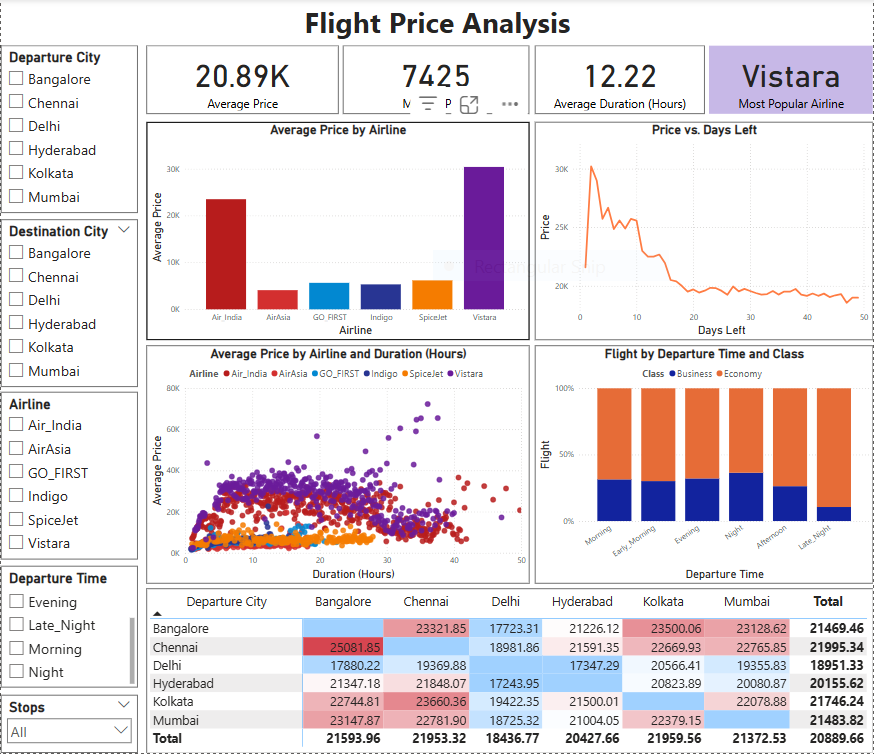

Layout of this report page (visuals, bound fields, positions):
{"tool":"powerbi","page":{"name":"Page 1","canvas":[1480,1280],"ordinal":0},"visuals":[{"type":"card","fields":{"Values":["Avg(Clean_Dataset.price)"]},"box":[246,80,326,116],"z":0},{"type":"card","fields":{"Values":["Median(Clean_Dataset.price)"]},"box":[580,80,316,116],"z":1000},{"type":"card","fields":{"Values":["Avg(Clean_Dataset.duration)"]},"box":[906,80,288,116],"z":2000},{"type":"card","fields":{"Values":["Clean_Dataset.MostPopularAirline"]},"box":[1202,80,278,116],"z":3000},{"type":"slicer","fields":{"Values":["Clean_Dataset.airline"]},"box":[0,668,232,284],"z":4000},{"type":"slicer","fields":{"Values":["Clean_Dataset.destination_city"]},"box":[0,374,232,284],"z":5000},{"type":"slicer","fields":{"Values":["Clean_Dataset.source_city"]},"box":[0,80,232,284],"z":6000},{"type":"slicer","fields":{"Values":["Clean_Dataset.stops"]},"box":[0,1182,232,98],"z":7000},{"type":"slicer","fields":{"Values":["Clean_Dataset.departure_time"]},"box":[0,962,232,206],"z":8000},{"type":"clusteredColumnChart","fields":{"Category":["Clean_Dataset.airline"],"Y":["Avg(Clean_Dataset.price)"]},"box":[246,208,650,370],"z":9000},{"type":"lineChart","title":"Price vs. Days Left","fields":{"Y":["Avg(Clean_Dataset.price)"],"Category":["Clean_Dataset.days_left"]},"box":[906,208,574,370],"z":10000},{"type":"scatterChart","fields":{"Y":["Avg(Clean_Dataset.price)"],"X":["Clean_Dataset.duration"],"Series":["Clean_Dataset.airline"]},"box":[246,588,650,404],"z":11000},{"type":"hundredPercentStackedColumnChart","title":"Flight by Departure Time and Class","fields":{"Category":["Clean_Dataset.departure_time"],"Series":["Clean_Dataset.class"],"Y":["CountNonNull(Clean_Dataset.flight)"]},"box":[906,588,574,404],"z":12000},{"type":"pivotTable","fields":{"Rows":["Clean_Dataset.source_city"],"Values":["Avg(Clean_Dataset.price)"],"Columns":["Clean_Dataset.destination_city"]},"box":[246,1002,1234,280],"z":13000},{"type":"textbox","box":[2,0,1478,80],"z":14000}]}

Visuals, with their boxes in screenshot pixels (x1, y1, x2, y2), scaled from the page's 1480x1280 canvas onto the 874x754 screenshot:
card - Avg(Clean_Dataset.price): 145,47,338,115
card - Median(Clean_Dataset.price): 343,47,529,115
card - Avg(Clean_Dataset.duration): 535,47,705,115
card - Clean_Dataset.MostPopularAirline: 710,47,873,115
slicer - Clean_Dataset.airline: 0,393,137,561
slicer - Clean_Dataset.destination_city: 0,220,137,388
slicer - Clean_Dataset.source_city: 0,47,137,214
slicer - Clean_Dataset.stops: 0,696,137,753
slicer - Clean_Dataset.departure_time: 0,567,137,688
clusteredColumnChart - Clean_Dataset.airline x Avg(Clean_Dataset.price): 145,123,529,340
"Price vs. Days Left" lineChart: 535,123,873,340
scatterChart - Avg(Clean_Dataset.price) x Clean_Dataset.duration: 145,346,529,584
"Flight by Departure Time and Class" hundredPercentStackedColumnChart: 535,346,873,584
pivotTable - Clean_Dataset.source_city x Avg(Clean_Dataset.price): 145,590,873,753
textbox: 1,0,873,47
